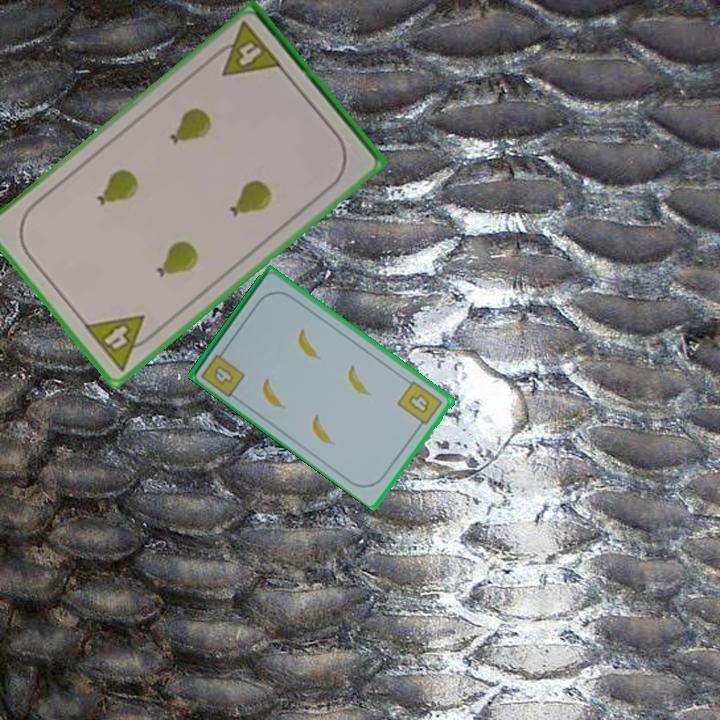4b: (394, 377, 446, 432), (197, 344, 248, 400)
4p: (80, 311, 161, 375), (207, 18, 285, 80)
